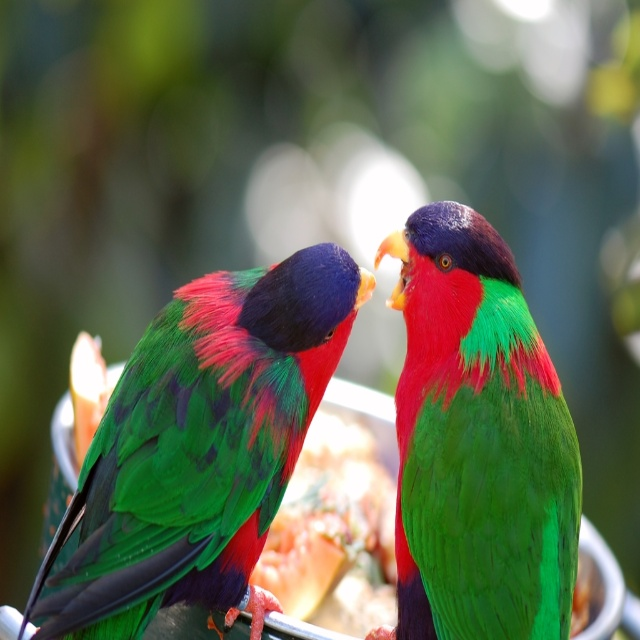Parrot: (15, 240, 375, 639), (374, 200, 582, 639)
